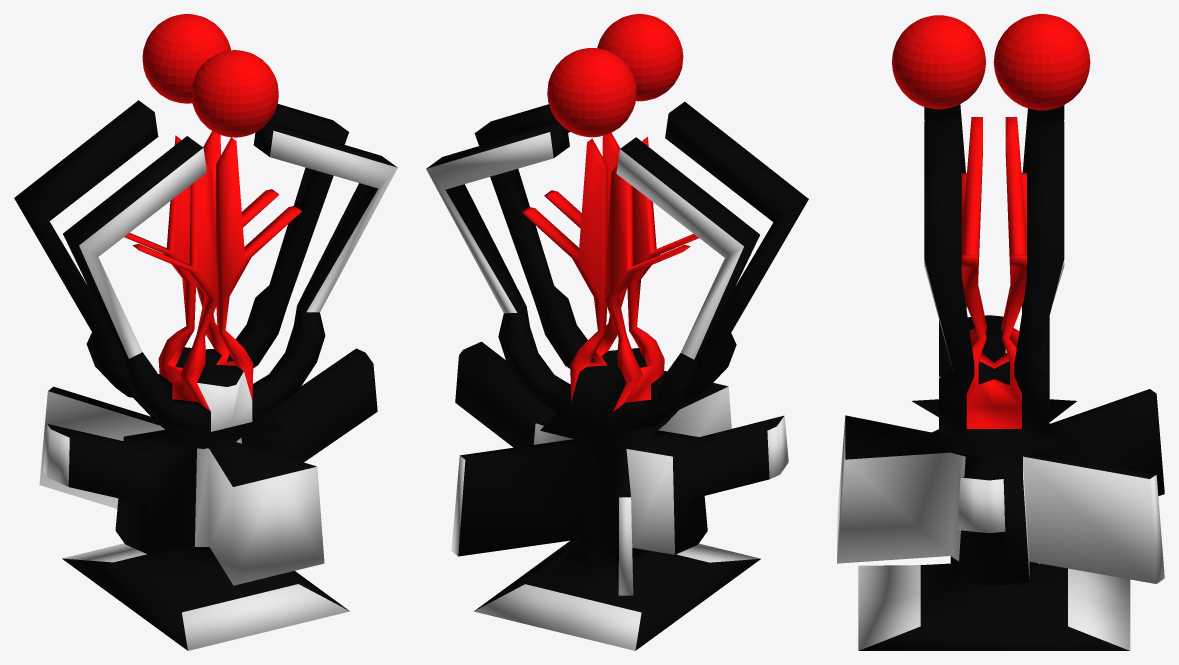
Rendered from tower2.3.fbx.
The picture shows the model from 3 angles, left to right: view 1: azimuth 30°, elevation 25°; view 2: azimuth 150°, elevation 25°; view 3: azimuth 270°, elevation 25°; orthographic projection. The views are drawn at different scales.
Parts seen in each view (by area): view 1: Sphere.001; view 2: Sphere.001; view 3: Sphere.001.
Part boxes in pixels (x1,y1,x2,y2): Sphere.001: [14, 14, 397, 650]; Sphere.001: [426, 14, 808, 650]; Sphere.001: [837, 14, 1164, 650].
Bounding box in the file's own units: 652 × 1066 × 535.
